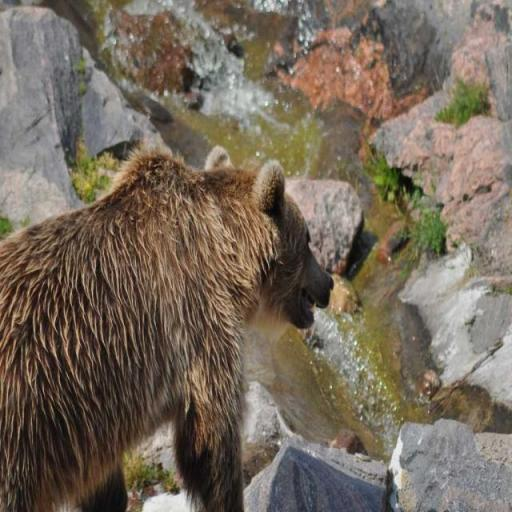Bear: (0, 143, 334, 511)
